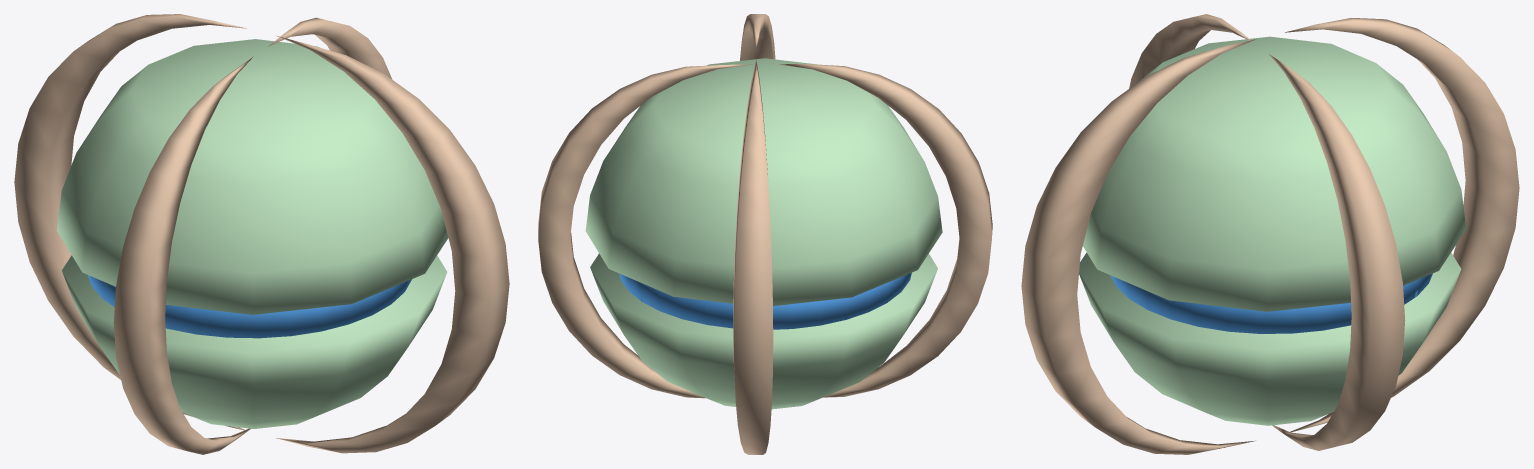
File: Grenade.fbx
The picture shows the model from 3 angles, left to right: view 1: azimuth 30°, elevation 25°; view 2: azimuth 150°, elevation 25°; view 3: azimuth 270°, elevation 25°; orthographic projection. The views are drawn at different scales.
Parts seen in each view (by area): view 1: Grenade; view 2: Grenade; view 3: Grenade.
Boxes of the visible parts, <box> form: Grenade: <box>14,14,509,454</box>; Grenade: <box>538,14,992,454</box>; Grenade: <box>1021,14,1519,454</box>.
Size of the model in its own units: 0.1111 by 0.108 by 0.1214.
